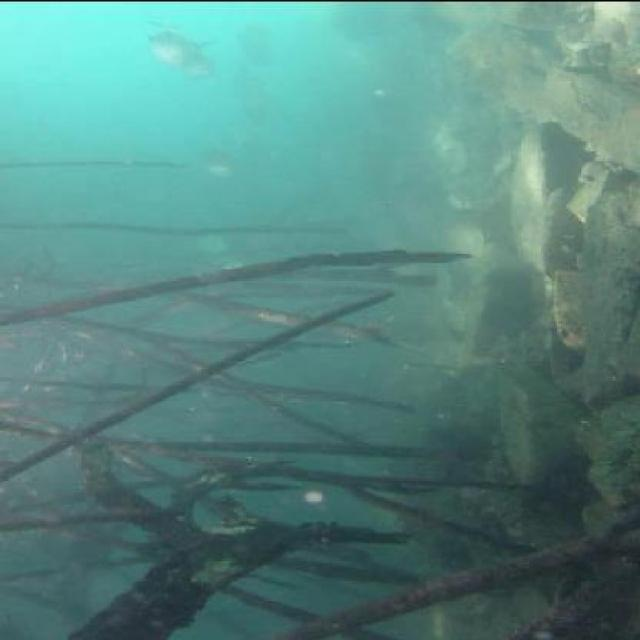Caranx_sexfasciatus_juvenile: (229, 0, 286, 62), (169, 33, 225, 75), (190, 138, 247, 177), (139, 0, 183, 49)
